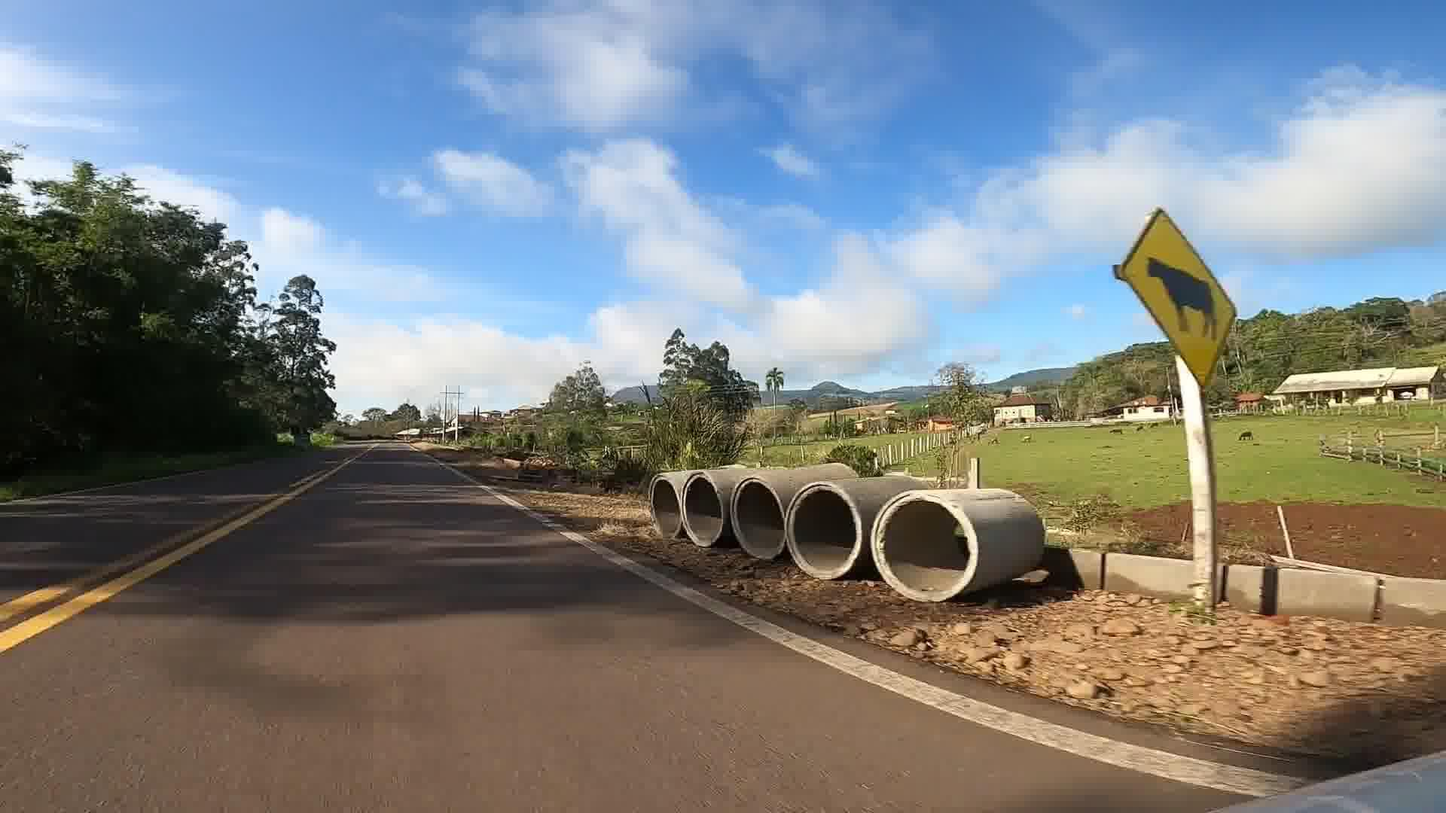A-35: (1116, 200, 1246, 394)
